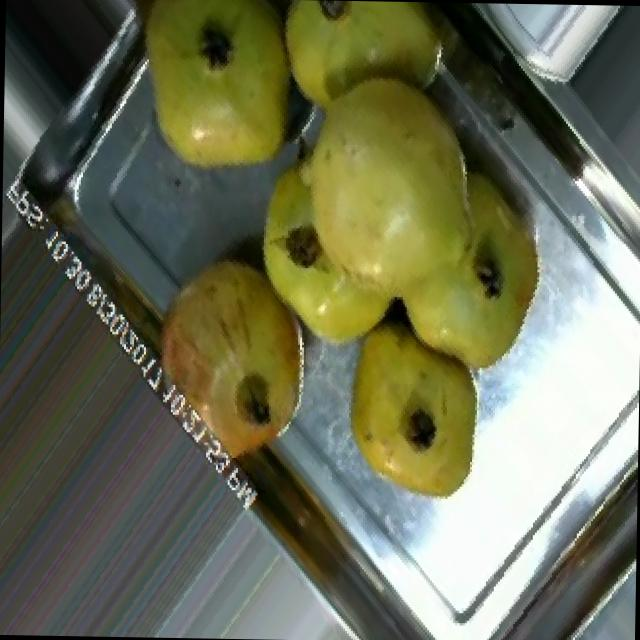fruit: (128, 228, 338, 482), (374, 167, 568, 396), (112, 0, 314, 203), (322, 308, 504, 522)
